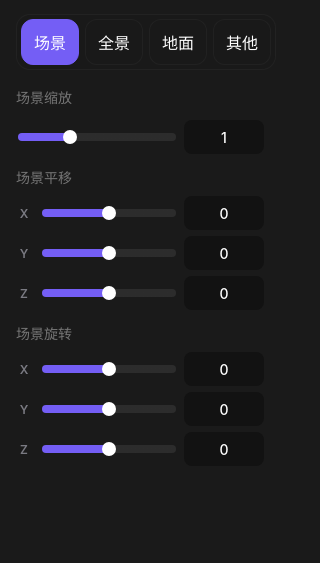
Scenario: renders the scene inspector as scene, panorama, ground, and misc tabs
Check: the number field named "场景平移 X" is shown, box top-left (184, 196), bottom-right (264, 230)
Check: the field labelled "全景半径" is not shown
Click the button "全景".
click(114, 42)  # box top-left (85, 19), bottom-right (143, 65)
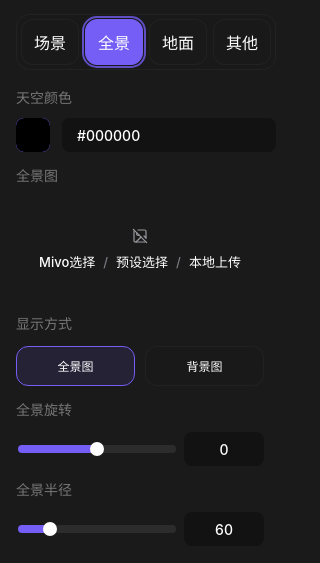
Check: the number field named "全景半径" is shown, box top-left (184, 512), bottom-right (264, 546)
Check: the field labelled "场景平移 X" is gone
